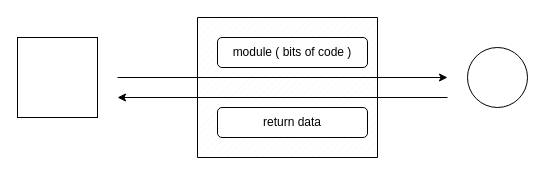
Image size: 545x175. Some labels were removed from this diagram. The shapes that lost their labels are listed below. From the top down, each one's box as (x1, y1, x2, y2) in pixels, then its label:
(16, 36, 98, 118): Ansible Control
(466, 46, 528, 108): Target host
